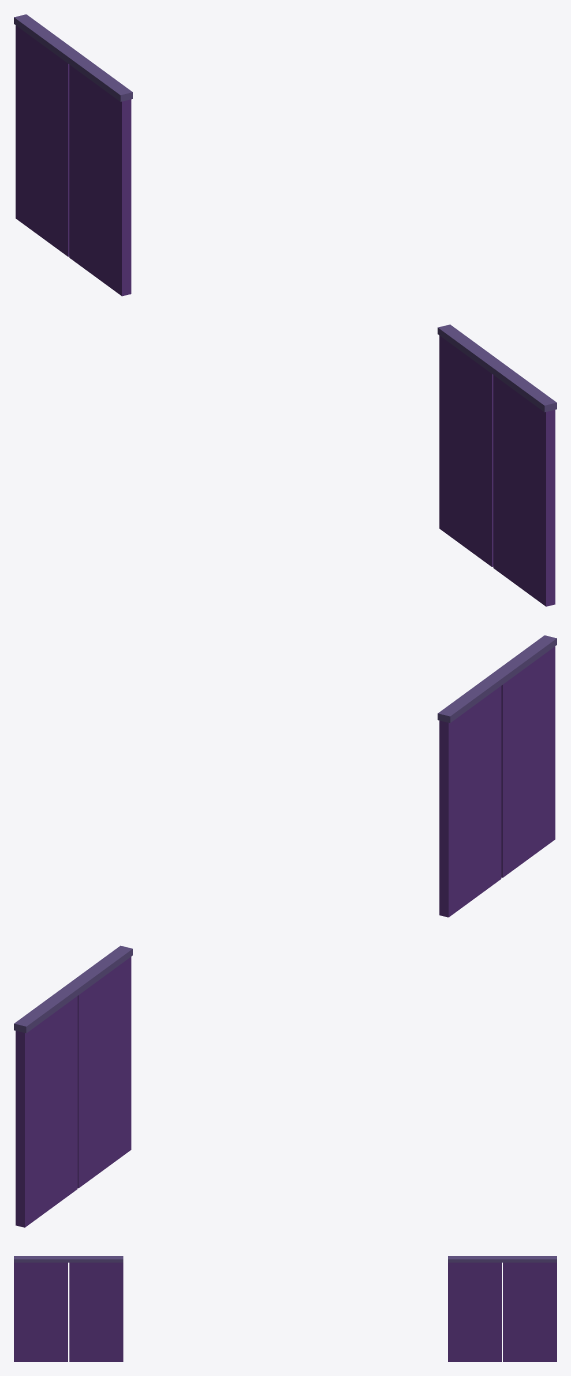
Rendered from auto_door.fbx.
The picture shows the model from 3 angles, top to bottom: view 1: azimuth 30°, elevation 25°; view 2: azimuth 150°, elevation 25°; view 3: azimuth 270°, elevation 25°; orthographic projection. The views are drawn at different scales.
Parts seen in each view (by area): view 1: duplicated_0286, duplicated_01, extracted_022, extracted_01, duplicated_0285, duplicated_0287; view 2: extracted_01, extracted_022, duplicated_01, duplicated_0286, duplicated_0285, duplicated_0287; view 3: extracted_01, duplicated_01, duplicated_0286, extracted_022, duplicated_0285, duplicated_0287.
Part boxes in pixels (x1,y1,x2,y2): duplicated_0286: (69, 65, 131, 296); duplicated_01: (493, 375, 555, 606); extracted_022: (15, 25, 69, 256); extracted_01: (439, 335, 493, 566); duplicated_0285: (437, 324, 556, 412); duplicated_0287: (14, 14, 132, 101); extracted_01: (439, 686, 501, 917); extracted_022: (15, 996, 77, 1227); duplicated_01: (501, 646, 555, 877); duplicated_0286: (77, 957, 131, 1188); duplicated_0285: (437, 635, 556, 722); duplicated_0287: (14, 945, 132, 1033); extracted_01: (69, 1262, 123, 1361); duplicated_01: (14, 1262, 67, 1361); duplicated_0286: (448, 1262, 501, 1361); extracted_022: (503, 1262, 556, 1361); duplicated_0285: (14, 1256, 123, 1262); duplicated_0287: (448, 1256, 556, 1262).
Bounding box in the file's own units: 0.2041 × 3.16 × 15.1.
